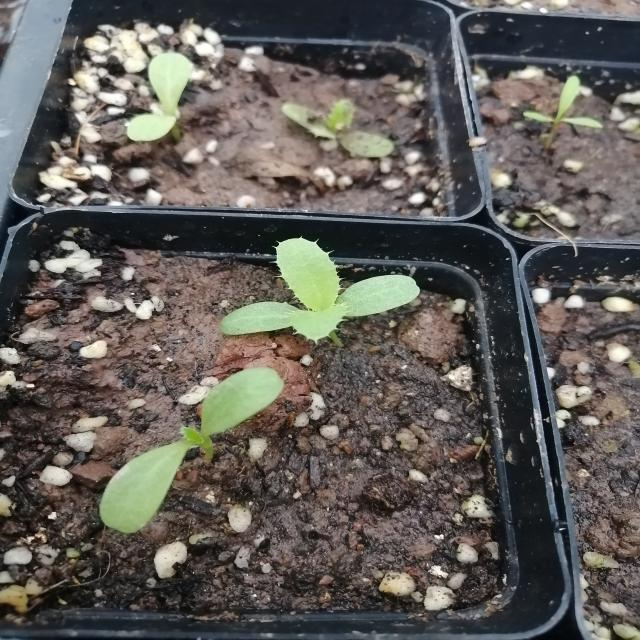field_thistle: (83, 351, 357, 544), (187, 207, 456, 358)
